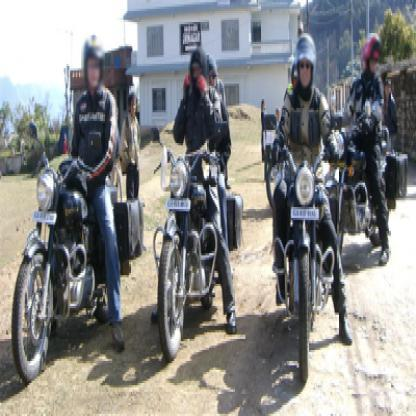Helmet: (185, 39, 224, 100), (286, 31, 320, 98), (80, 26, 108, 97), (357, 30, 388, 81)
